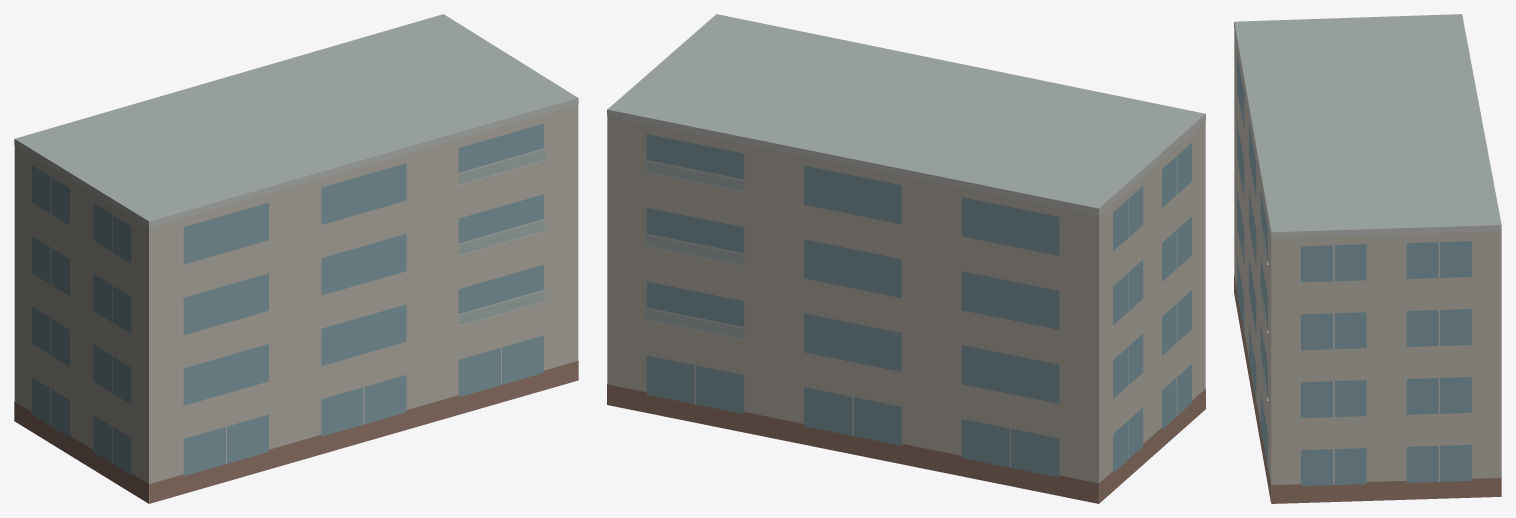
The model's file is survey-upis-32756413.glb.
3 views of the same model, side by side, from view 1: azimuth 30°, elevation 25°; view 2: azimuth 150°, elevation 25°; view 3: azimuth 270°, elevation 25° (orthographic). The views are drawn at different scales.
Visible parts, largest first — view 1: survey-upis-32756413.tmp; view 2: survey-upis-32756413.tmp; view 3: survey-upis-32756413.tmp.
Boxes of the visible parts, box(x1,y1,x2,y2) form: survey-upis-32756413.tmp: box(14, 14, 578, 503); survey-upis-32756413.tmp: box(607, 14, 1205, 503); survey-upis-32756413.tmp: box(1234, 14, 1501, 503).
Size of the model in its own units: 18.44 by 10.7 by 9.56.
